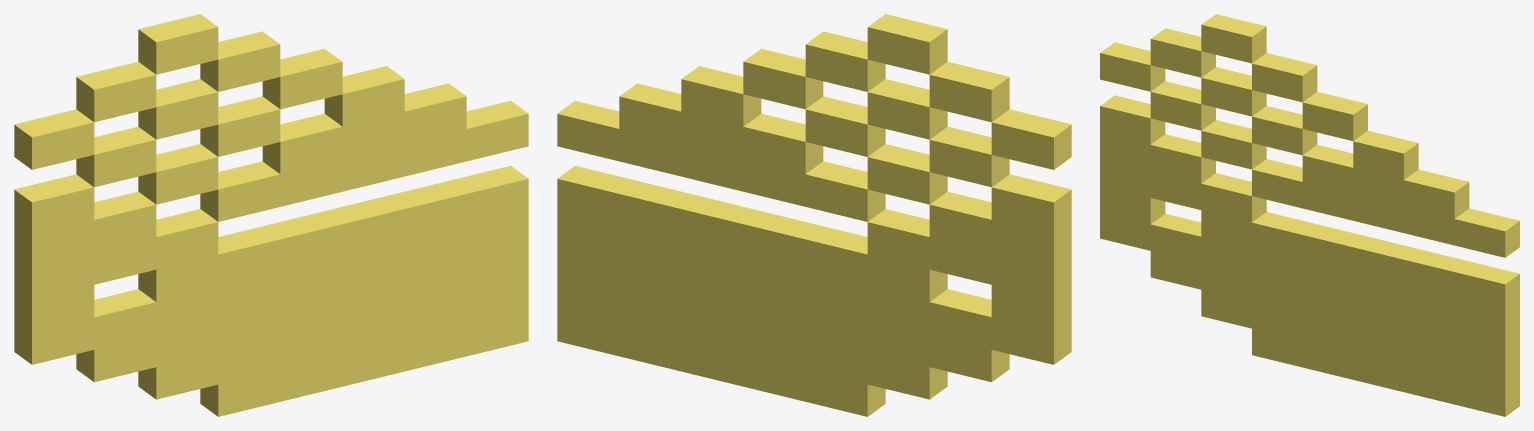
The model's file is Treasure-Tarmin.vox.obj.
The picture shows the model from 3 angles, left to right: view 1: azimuth 30°, elevation 25°; view 2: azimuth 150°, elevation 25°; view 3: azimuth 330°, elevation 25°; orthographic projection. The views are drawn at different scales.
Size of the model in its own units: 1.6 by 1.2 by 0.1.
1 material, 1 textured.
